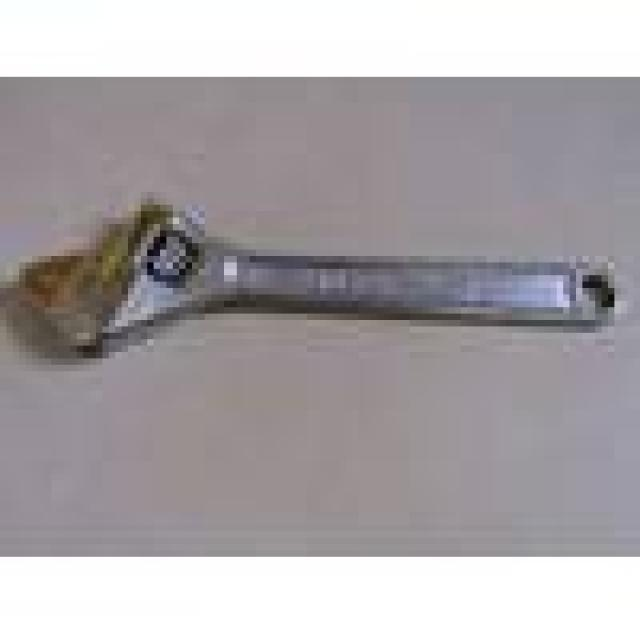wrench: (9, 186, 626, 366)
